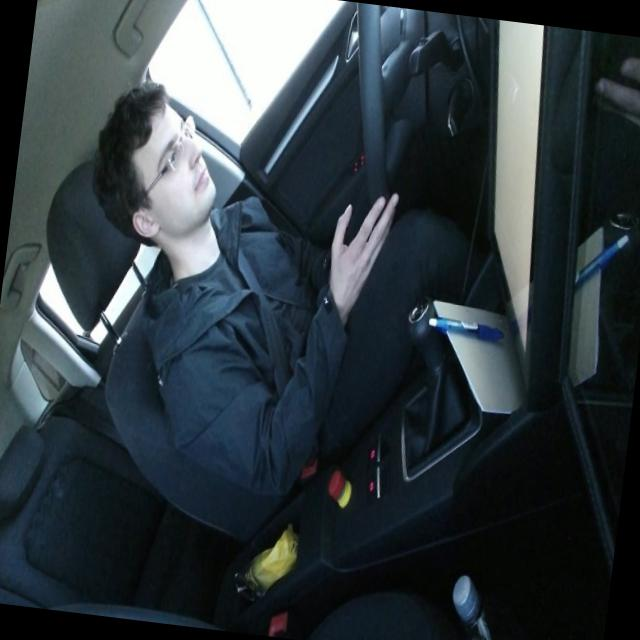pen: (426, 313, 504, 342)
